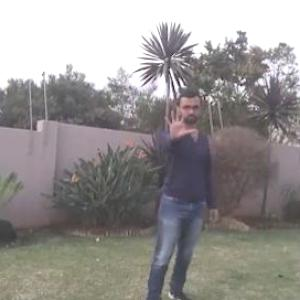follow_hand: (159, 103, 198, 144)
